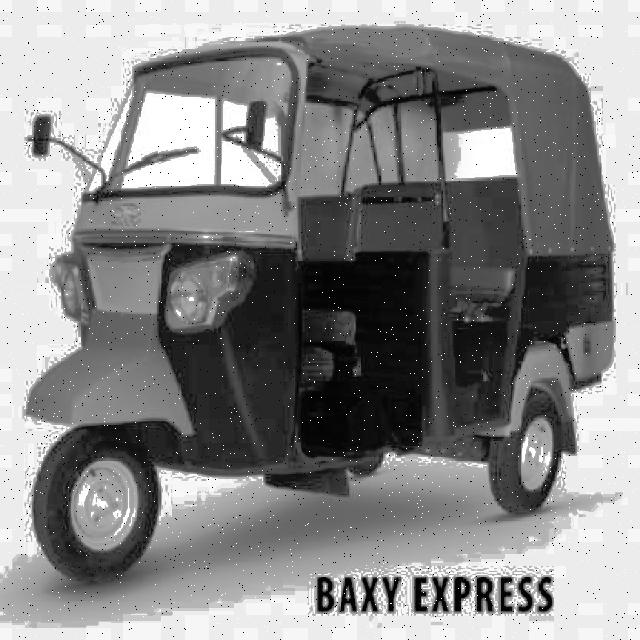Auto-Rickshaw: (22, 29, 614, 586)
